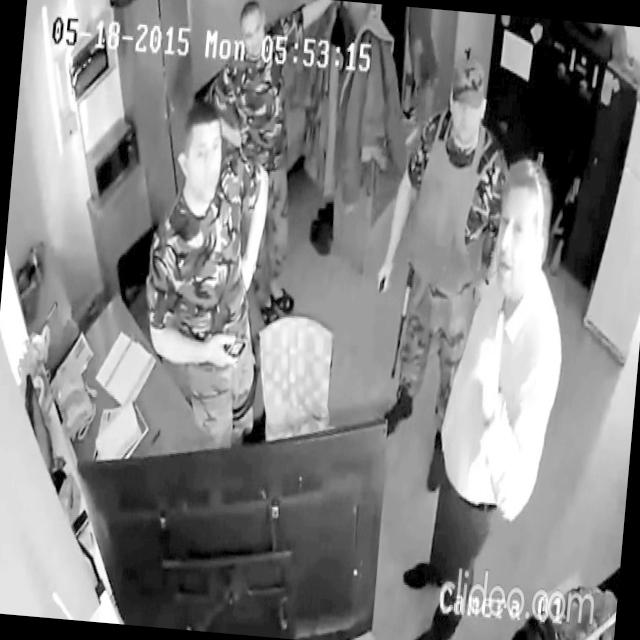gun: (390, 252, 420, 390)
person: (396, 149, 580, 640), (134, 95, 282, 450), (185, 0, 335, 324)
person with a gun: (358, 49, 520, 500)
